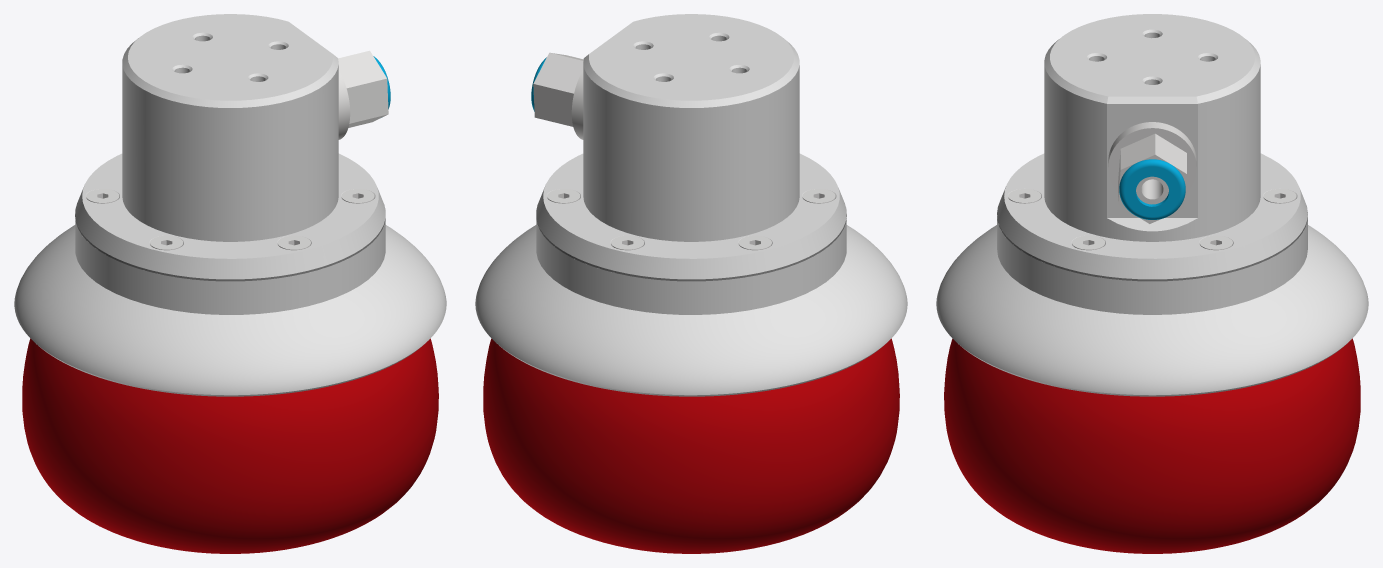
Rendered from universal_gripper_open.dae.
3 renders of one model, left to right at view 1: azimuth 30°, elevation 25°; view 2: azimuth 150°, elevation 25°; view 3: azimuth 270°, elevation 25°, orthographic.
Visible parts, largest first — view 1: housing.open, balloon.open; view 2: housing.open, balloon.open; view 3: housing.open, balloon.open.
Part boxes in pixels (<box>): housing.open: <box>14,14,446,396</box>; balloon.open: <box>22,338,438,553</box>; housing.open: <box>475,14,907,396</box>; balloon.open: <box>483,338,899,553</box>; housing.open: <box>936,14,1368,396</box>; balloon.open: <box>944,338,1360,553</box>.
Bounding box in the file's own units: 0.0779 × 0.0779 × 0.0898.
